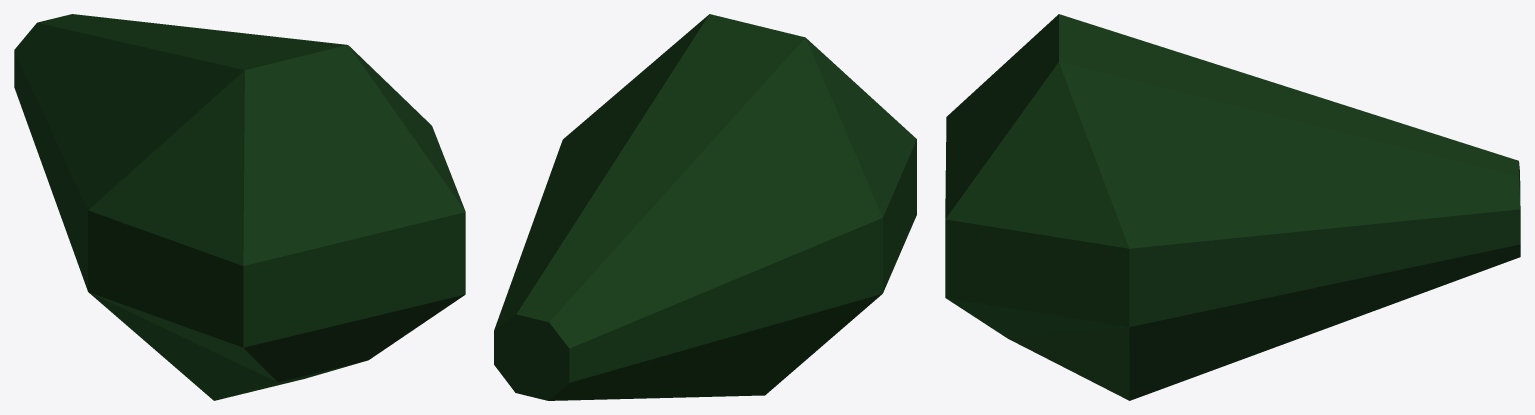
Rendered from FreshOreganoCollider.obj.
3 renders of one model, left to right at view 1: azimuth 30°, elevation 25°; view 2: azimuth 150°, elevation 25°; view 3: azimuth 270°, elevation 25°, orthographic. The views are drawn at different scales.
Parts seen in each view (by area): view 1: leek.001; view 2: leek.001; view 3: leek.001.
Part boxes in pixels (x1,y1,x2,y2): leek.001: (14, 14, 465, 400); leek.001: (494, 14, 916, 400); leek.001: (945, 14, 1520, 400).
Size of the model in its own units: 0.1432 by 0.1429 by 0.218.
